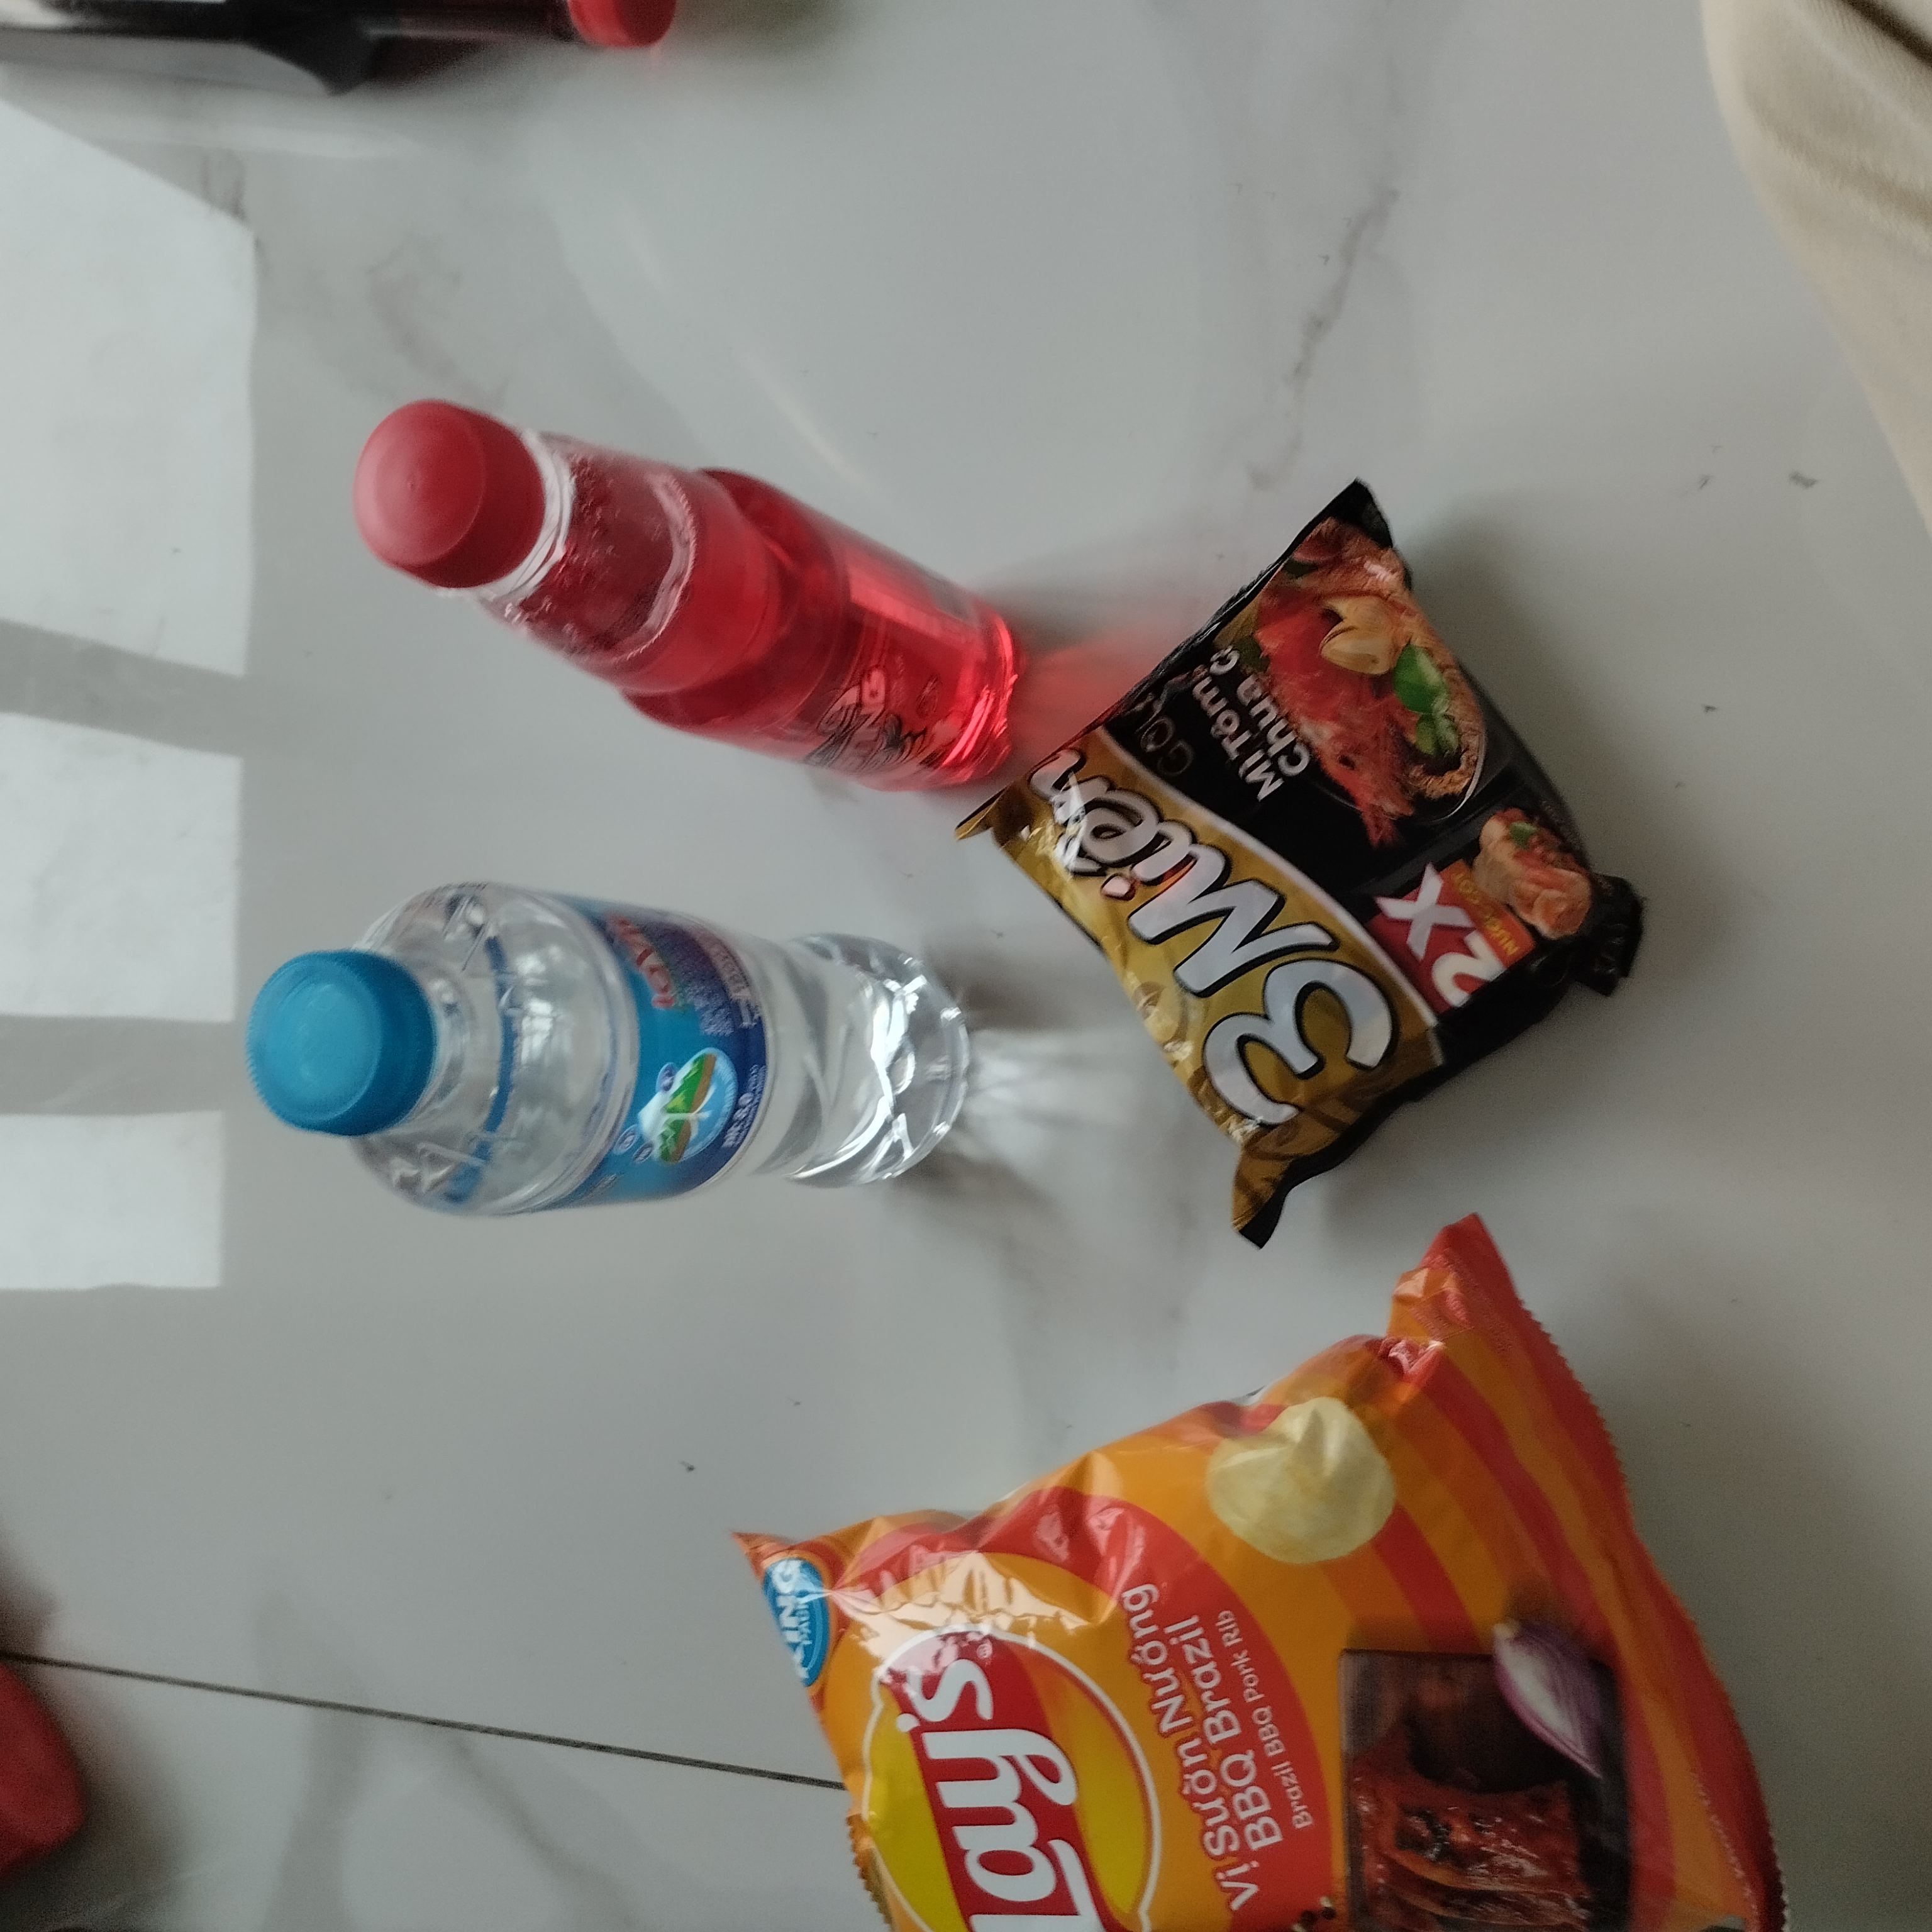3mien: (948, 483, 1645, 1238)
Lavie: (237, 901, 987, 1221)
Lays: (699, 1217, 1817, 1932)
Sting: (334, 391, 1016, 801)
